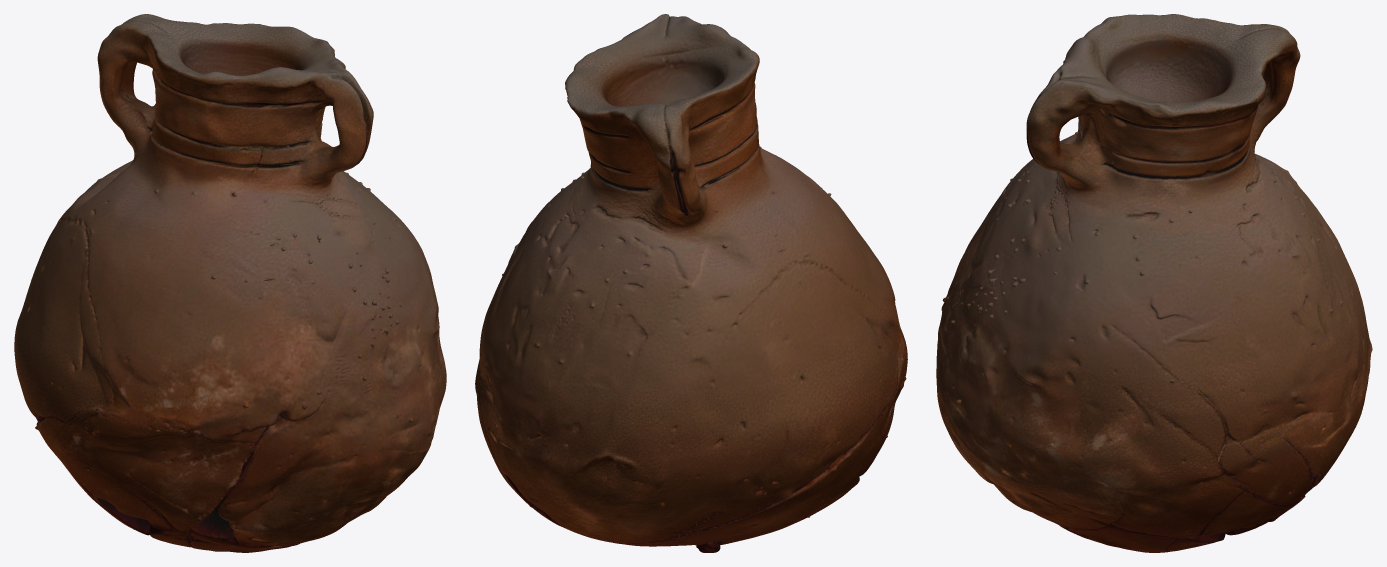
Rendered from jarron-1.glb.
3 renders of one model, left to right at view 1: azimuth 30°, elevation 25°; view 2: azimuth 150°, elevation 25°; view 3: azimuth 270°, elevation 25°, orthographic.
Visible parts, largest first — view 1: tripo_node_d54af70b-247b-473b-b6d0-e175e9825b30; view 2: tripo_node_d54af70b-247b-473b-b6d0-e175e9825b30; view 3: tripo_node_d54af70b-247b-473b-b6d0-e175e9825b30.
Boxes of the visible parts, x1,y1,x2,y2 form: tripo_node_d54af70b-247b-473b-b6d0-e175e9825b30: (14, 14, 446, 552); tripo_node_d54af70b-247b-473b-b6d0-e175e9825b30: (475, 14, 907, 552); tripo_node_d54af70b-247b-473b-b6d0-e175e9825b30: (936, 14, 1372, 552).
Size of the model in its own units: 0.8072 by 0.9792 by 0.8054.
1 material, 1 textured.
